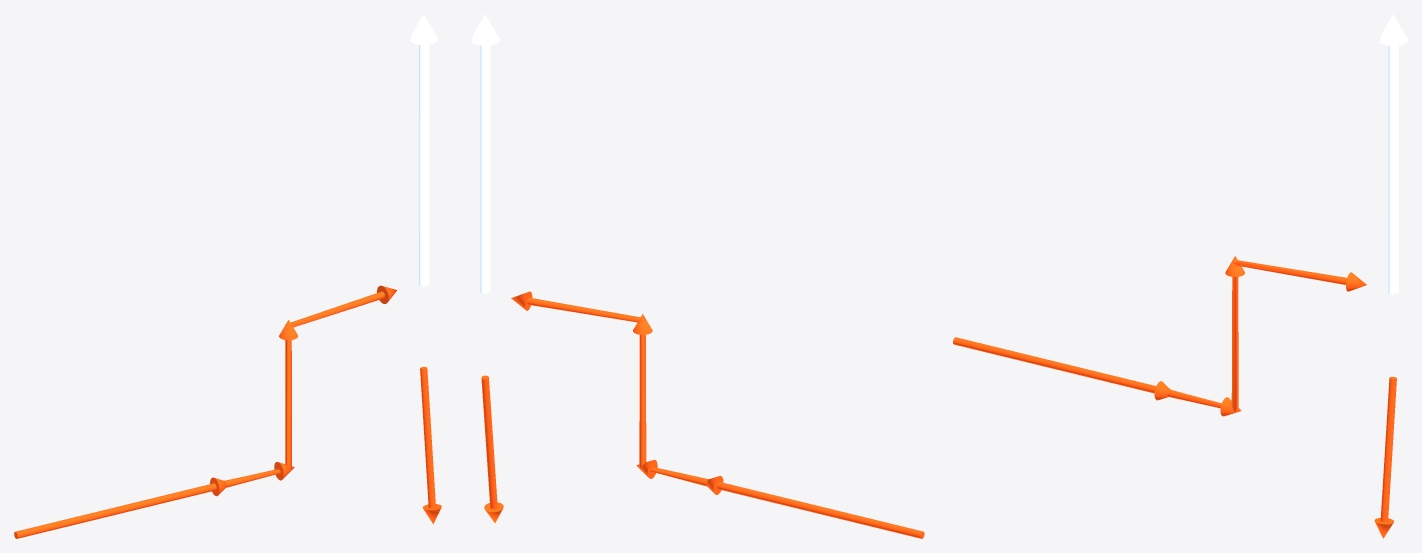
Rendered from flash_evaporator_flow.glb.
3 views of the same model, side by side, from view 1: azimuth 30°, elevation 25°; view 2: azimuth 150°, elevation 25°; view 3: azimuth 330°, elevation 25° (orthographic). The views are drawn at different scales.
Parts seen in each view (by area): view 1: feed, vapour, concentrate.001; view 2: feed, vapour, concentrate.001; view 3: feed, vapour, concentrate.001.
Part boxes in pixels (<box>): feed: <box>14,285,396,538</box>; vapour: <box>409,14,437,286</box>; concentrate.001: <box>420,367,441,524</box>; feed: <box>511,291,924,538</box>; vapour: <box>470,14,499,293</box>; concentrate.001: <box>481,375,503,522</box>; feed: <box>953,256,1366,416</box>; vapour: <box>1378,14,1407,294</box>; concentrate.001: <box>1374,377,1396,538</box>.
Size of the model in its own units: 2.68 by 3 by 0.23.
